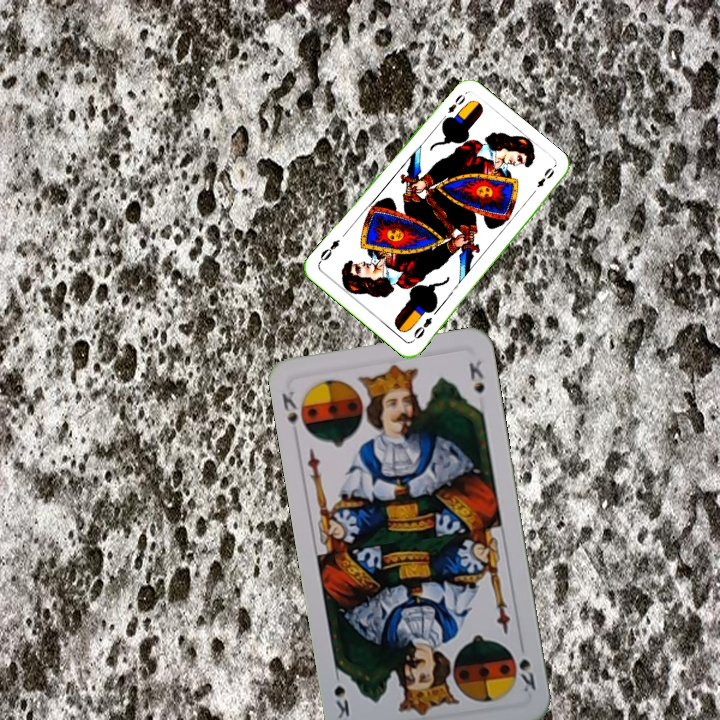EO: (437, 90, 468, 124), (408, 313, 435, 344)
SK: (277, 386, 301, 427), (515, 654, 538, 695)
